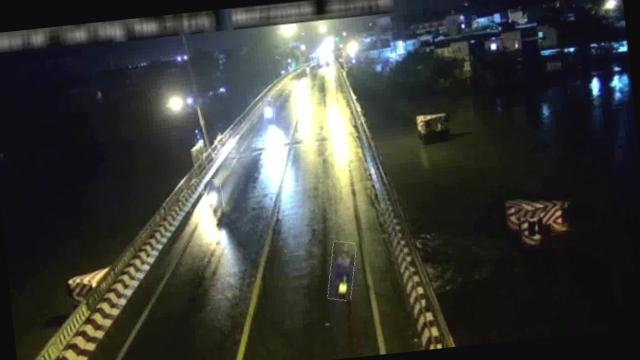Bike: (324, 240, 359, 302), (203, 179, 226, 225), (263, 100, 276, 124)
